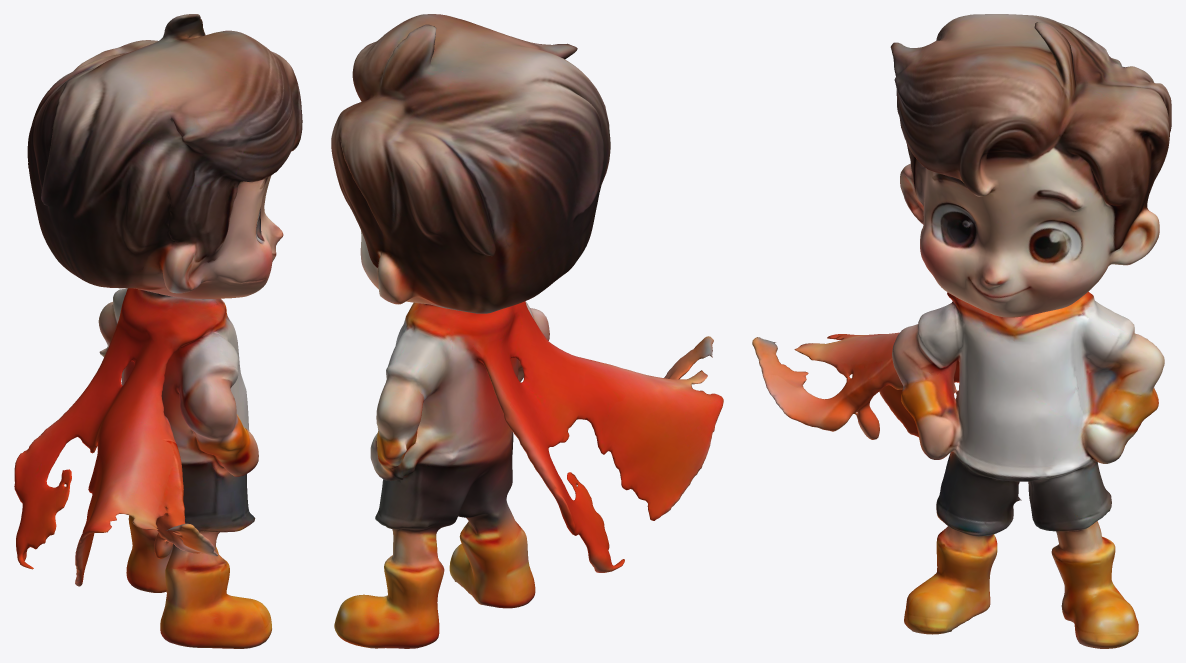
Rendered from hero_boy.glb.
The picture shows the model from 3 angles, left to right: view 1: azimuth 30°, elevation 25°; view 2: azimuth 150°, elevation 25°; view 3: azimuth 270°, elevation 25°; orthographic projection. The views are drawn at different scales.
Parts seen in each view (by area): view 1: tripo_node_b9362496-f48c-4c20-ae0c-7cae193c6e0b; view 2: tripo_node_b9362496-f48c-4c20-ae0c-7cae193c6e0b; view 3: tripo_node_b9362496-f48c-4c20-ae0c-7cae193c6e0b.
Part boxes in pixels (bbox=[...]): tripo_node_b9362496-f48c-4c20-ae0c-7cae193c6e0b: bbox=[14, 14, 302, 648]; tripo_node_b9362496-f48c-4c20-ae0c-7cae193c6e0b: bbox=[331, 14, 723, 648]; tripo_node_b9362496-f48c-4c20-ae0c-7cae193c6e0b: bbox=[752, 14, 1171, 648].
Bounding box in the file's own units: 0.4198 × 0.8507 × 0.5383.
Materials: 1 (1 with a texture image).
